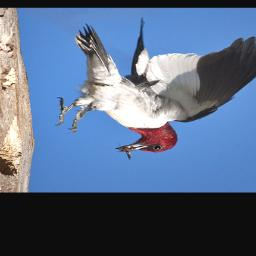Woodpecker: (56, 18, 256, 157)
